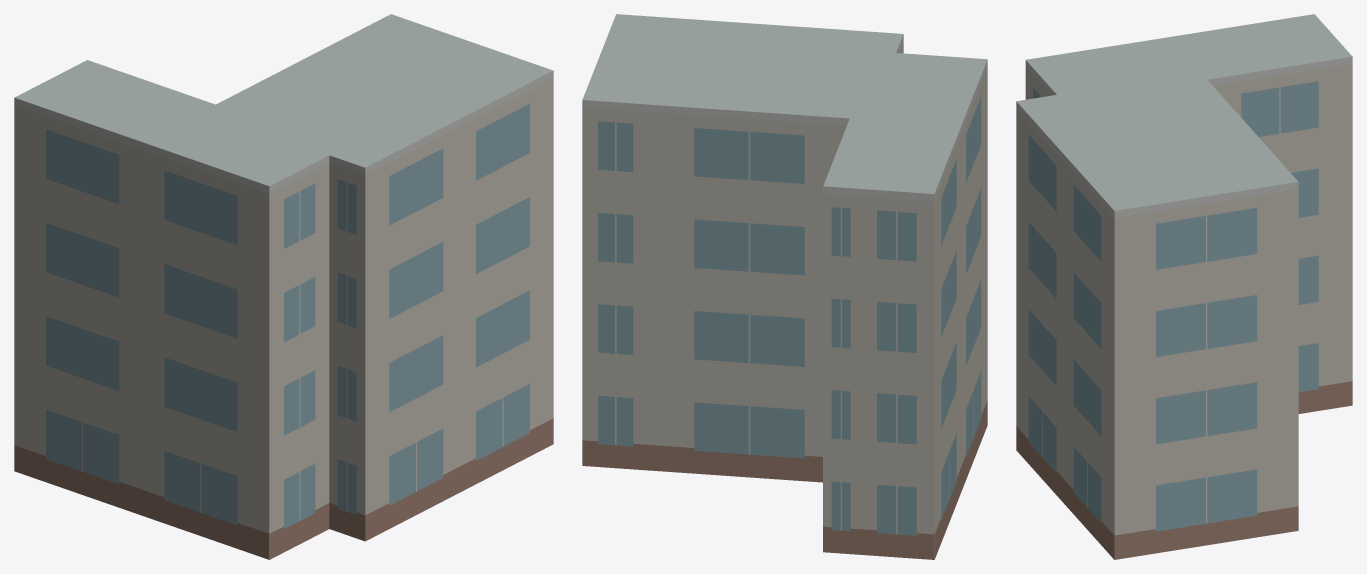
The model's file is survey-upis-32862040.glb.
3 renders of one model, left to right at view 1: azimuth 30°, elevation 25°; view 2: azimuth 150°, elevation 25°; view 3: azimuth 270°, elevation 25°, orthographic. The views are drawn at different scales.
Parts seen in each view (by area): view 1: survey-upis-32862040.tmp; view 2: survey-upis-32862040.tmp; view 3: survey-upis-32862040.tmp.
Part boxes in pixels (box(x1,y1,x2,y2)): survey-upis-32862040.tmp: box(14, 14, 553, 559); survey-upis-32862040.tmp: box(582, 14, 987, 559); survey-upis-32862040.tmp: box(1016, 14, 1352, 559).
Bounding box in the file's own units: 14.78 × 12.2 × 10.67.
